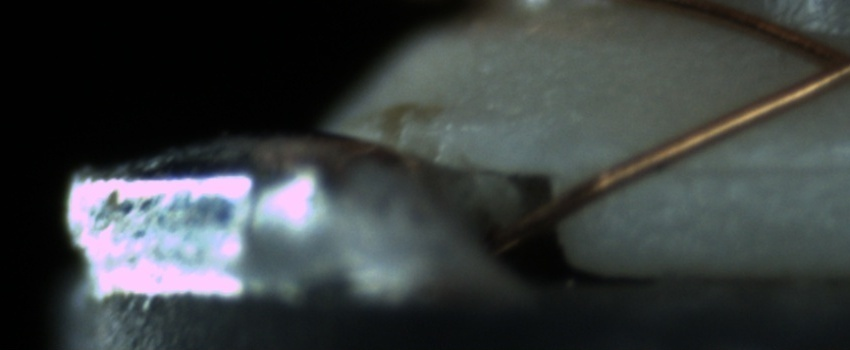CL: (782, 16, 849, 103)
DL: (670, 133, 849, 200)
